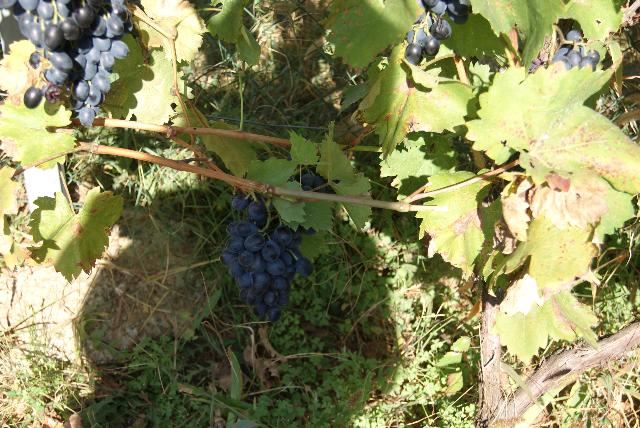grapes: (220, 195, 315, 322), (72, 1, 132, 126)
